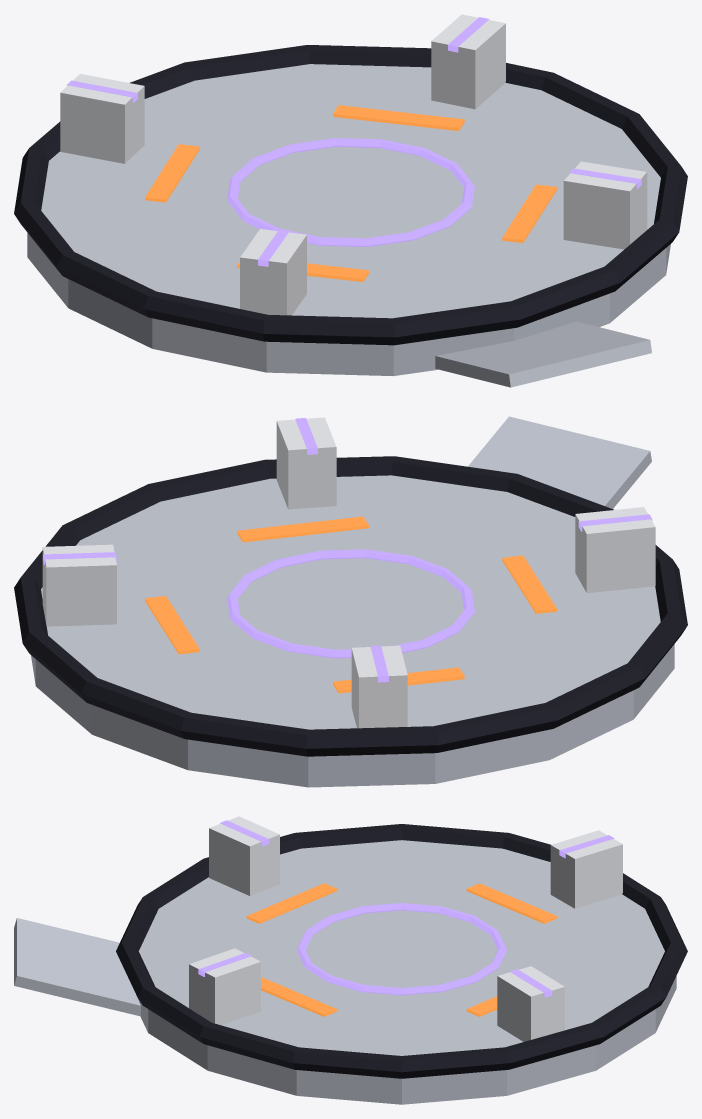
The model's file is jungle_landing_pad.glb.
3 views of the same model, one above another, from view 1: azimuth 30°, elevation 25°; view 2: azimuth 150°, elevation 25°; view 3: azimuth 270°, elevation 25° (orthographic). The views are drawn at different scales.
Parts seen in each view (by area): view 1: jungle_landing_pad; view 2: jungle_landing_pad; view 3: jungle_landing_pad.
Part boxes in pixels (bbox=[...]): jungle_landing_pad: bbox=[14, 14, 687, 387]; jungle_landing_pad: bbox=[14, 416, 687, 787]; jungle_landing_pad: bbox=[14, 816, 687, 1104].
Bounding box in the file's own units: 12.5 × 2.22 × 14.72.
